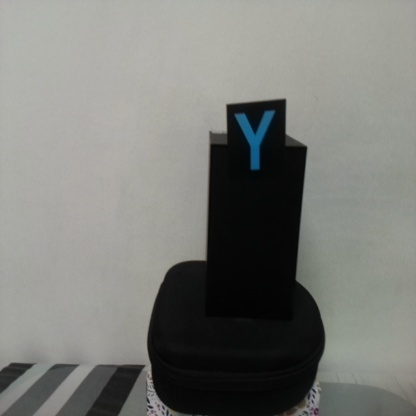id_14: (226, 104, 286, 180)
